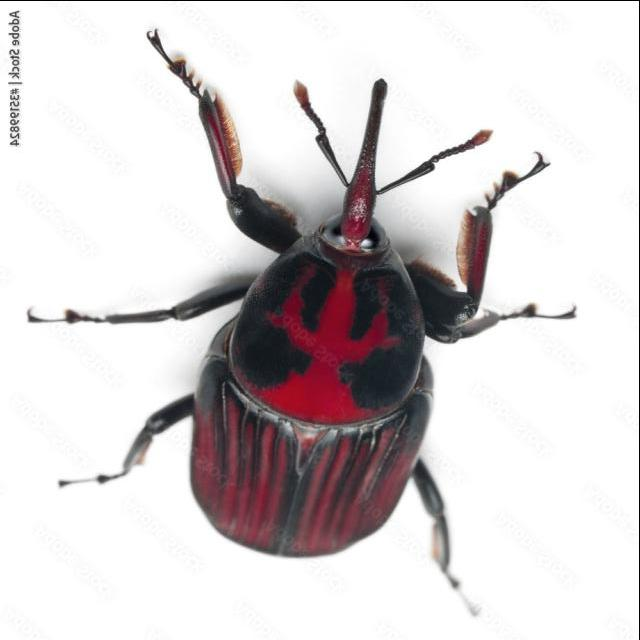Red-palm-weevil: (137, 76, 490, 566)
